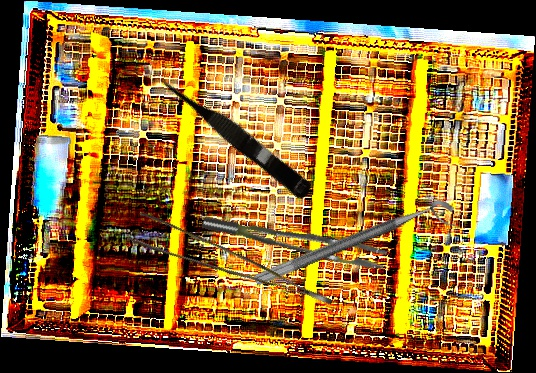Fixation Ring: (252, 194, 461, 304)
Micro Scissor: (151, 64, 319, 203)
Tissue Forceps: (126, 201, 334, 338), (201, 191, 389, 288)
